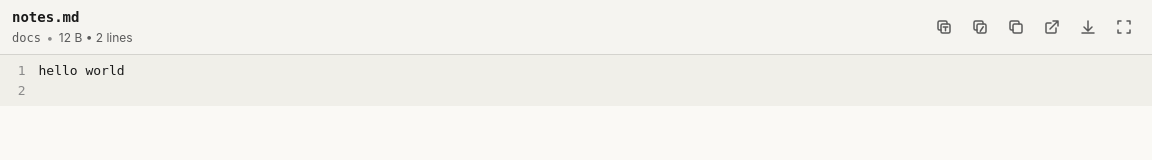
Test: FileViewer › copies the preview path when the file has no absolute path
Click the button named "Copy full path" at coordinates (980, 27), box [964, 11, 996, 43]
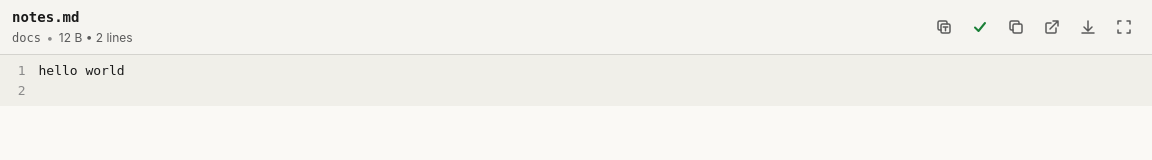
Check: the button named "Full path copied!" is shown, box [964, 11, 996, 43]
